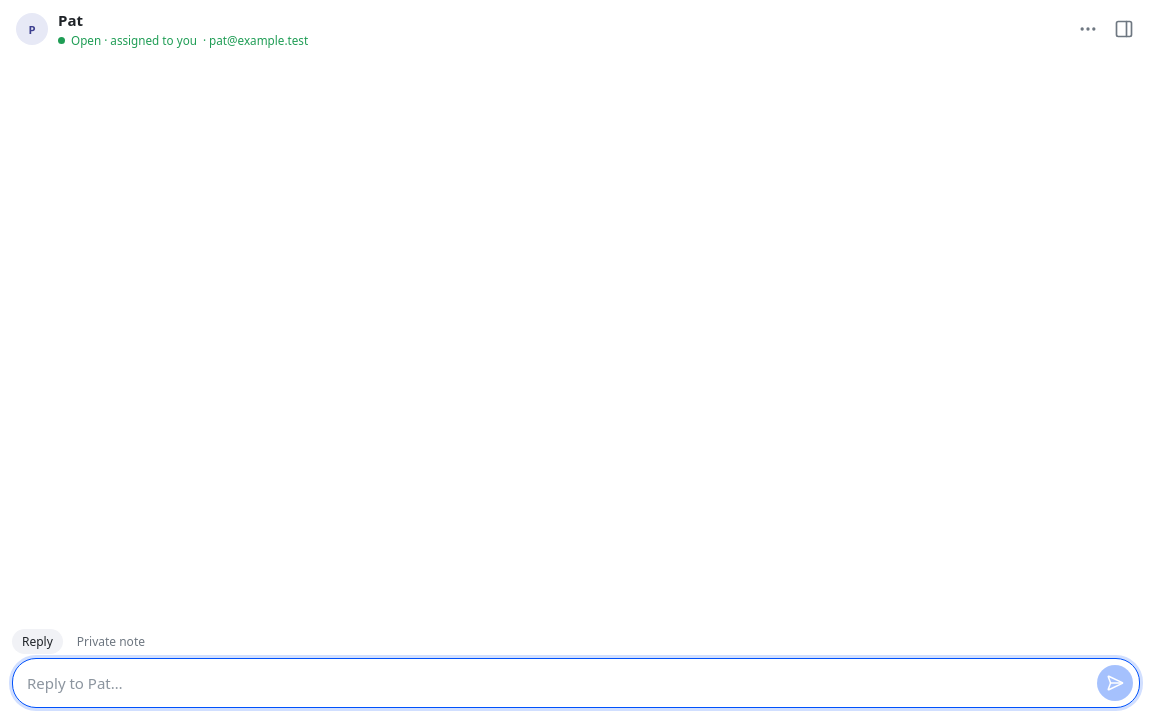
ConversationView › inserts a saved reply with the customer's name
Type "/ref" into the text box named "Message" at x=558, y=684, box top-left (27, 666), bottom-right (1089, 701)
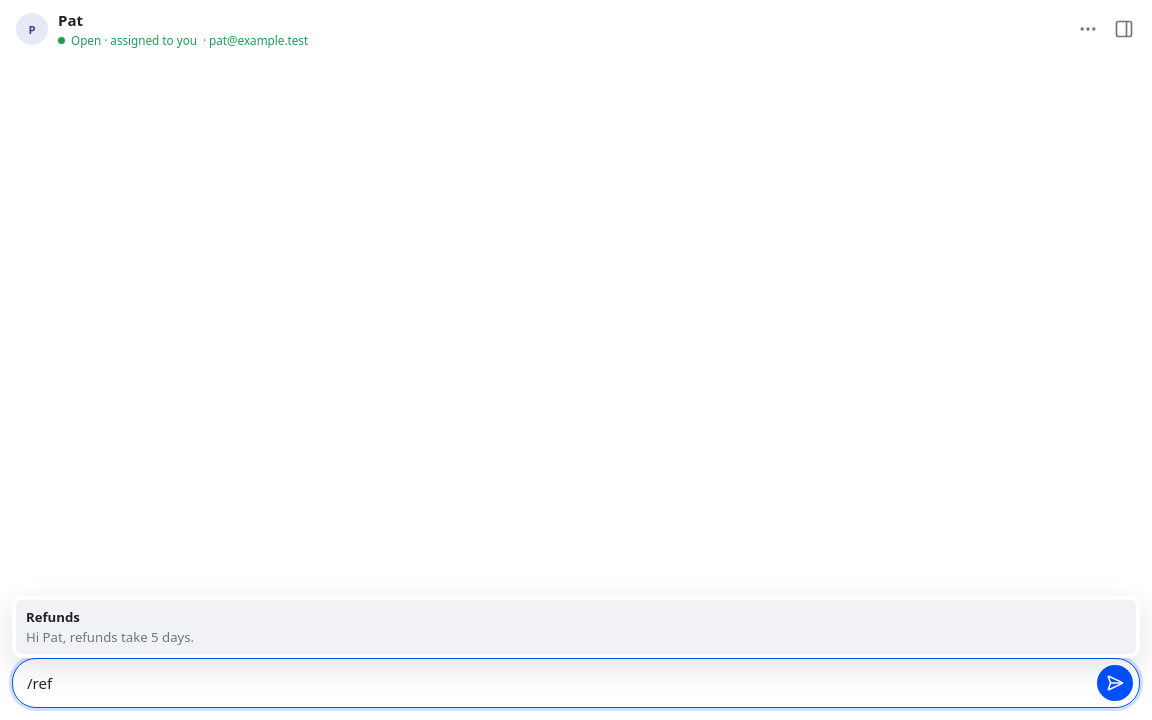
Now the option "Refunds Hi Pat, refunds take 5 days." is shown, box top-left (16, 600), bottom-right (1136, 654)
Press Enter in the text box named "Message", box top-left (27, 666), bottom-right (1089, 701)
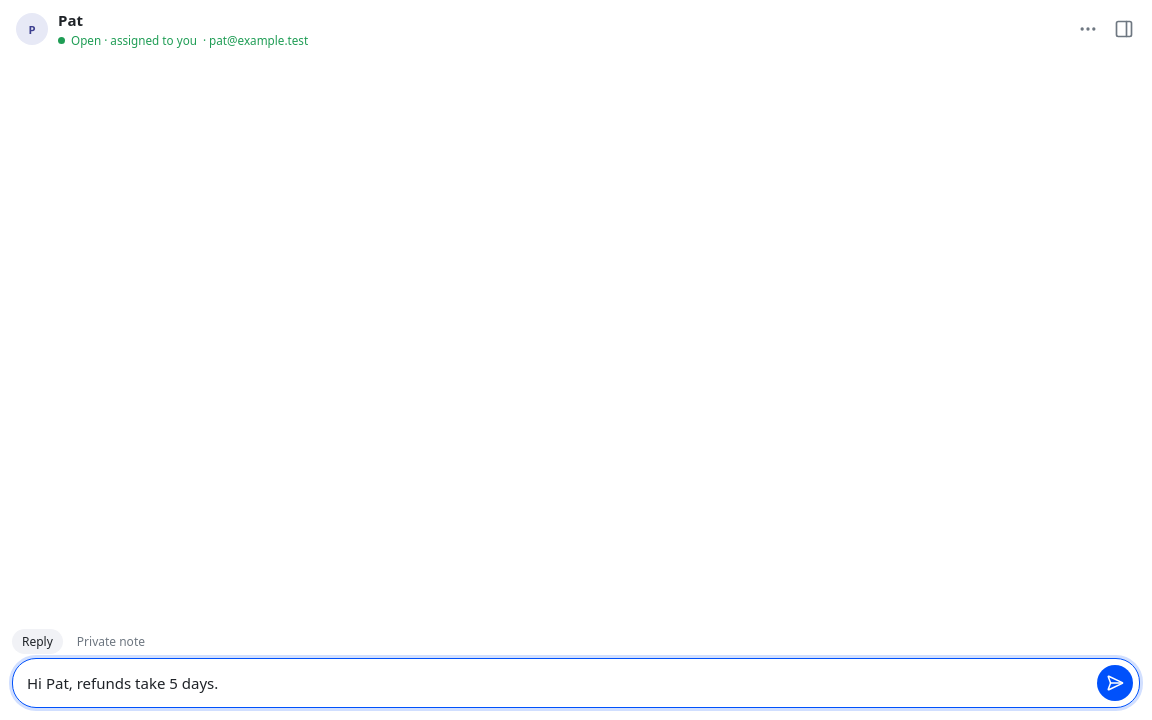
Now the text box named "Message" holds "Hi Pat, refunds take 5 days.", box top-left (27, 666), bottom-right (1089, 701)
Now the list is gone
